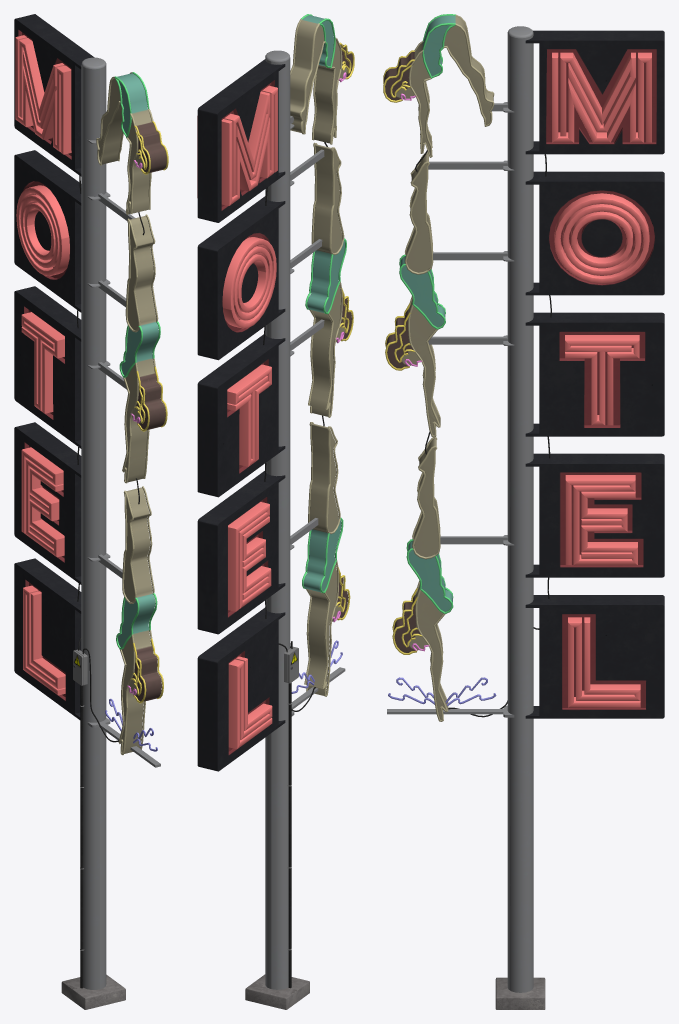
File: Sign.obj
3 views of the same model, side by side, from view 1: azimuth 30°, elevation 25°; view 2: azimuth 150°, elevation 25°; view 3: azimuth 270°, elevation 25° (orthographic). The views are drawn at different scales.
Parts seen in each view (by area): view 1: motel_1_01; view 2: motel_1_01; view 3: motel_1_01.
Boxes of the visible parts, x1=… form: motel_1_01: x1=14, y1=14, x2=168, y2=1009; motel_1_01: x1=197, y1=14, x2=354, y2=1009; motel_1_01: x1=383, y1=14, x2=664, y2=1009.
Size of the model in its own units: 0.0764 by 1.67 by 0.4352.
Materials: 1 (1 with a texture image).
